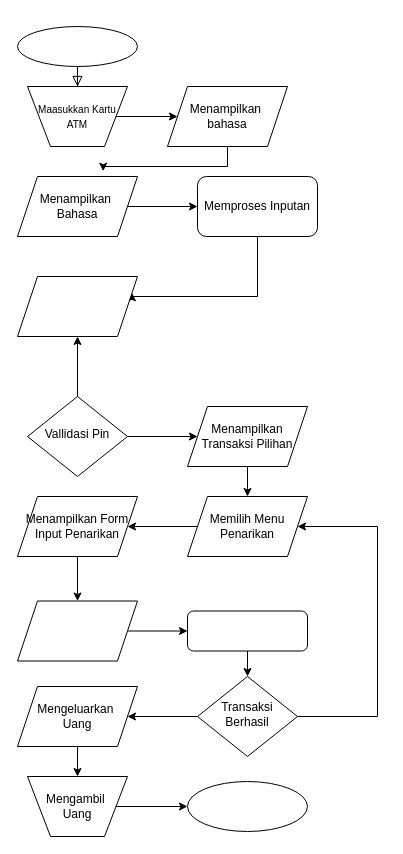
The diagram is 403 pixels wide and 854 high, and some of its shapes have lost their labels. Each missing label, with the box of its shape:
Finish: (186, 780, 308, 832)
Input Nominal Penarikan: (16, 600, 138, 661)
Masukkan Sandi: (16, 276, 138, 336)
Memproses Transaksi: (186, 610, 308, 651)
Start: (16, 26, 138, 66)
